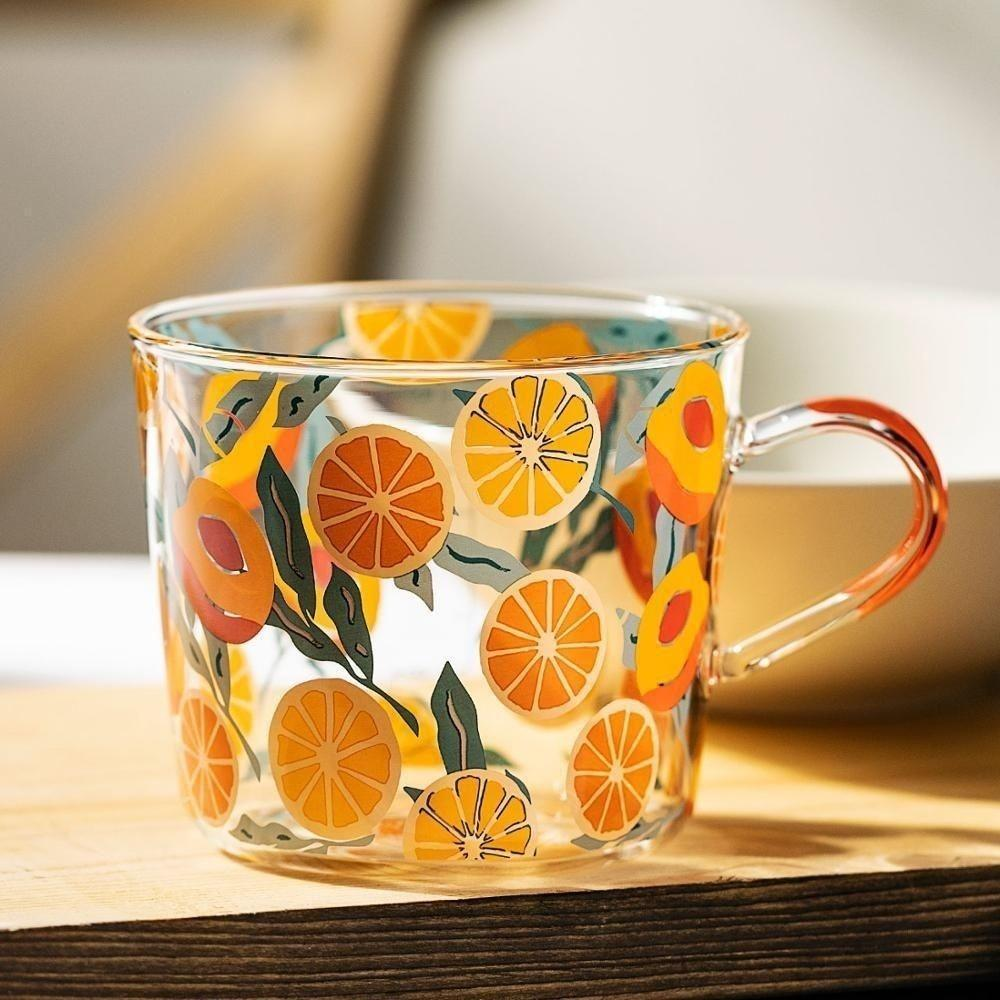glass-mug: (109, 264, 964, 889)
